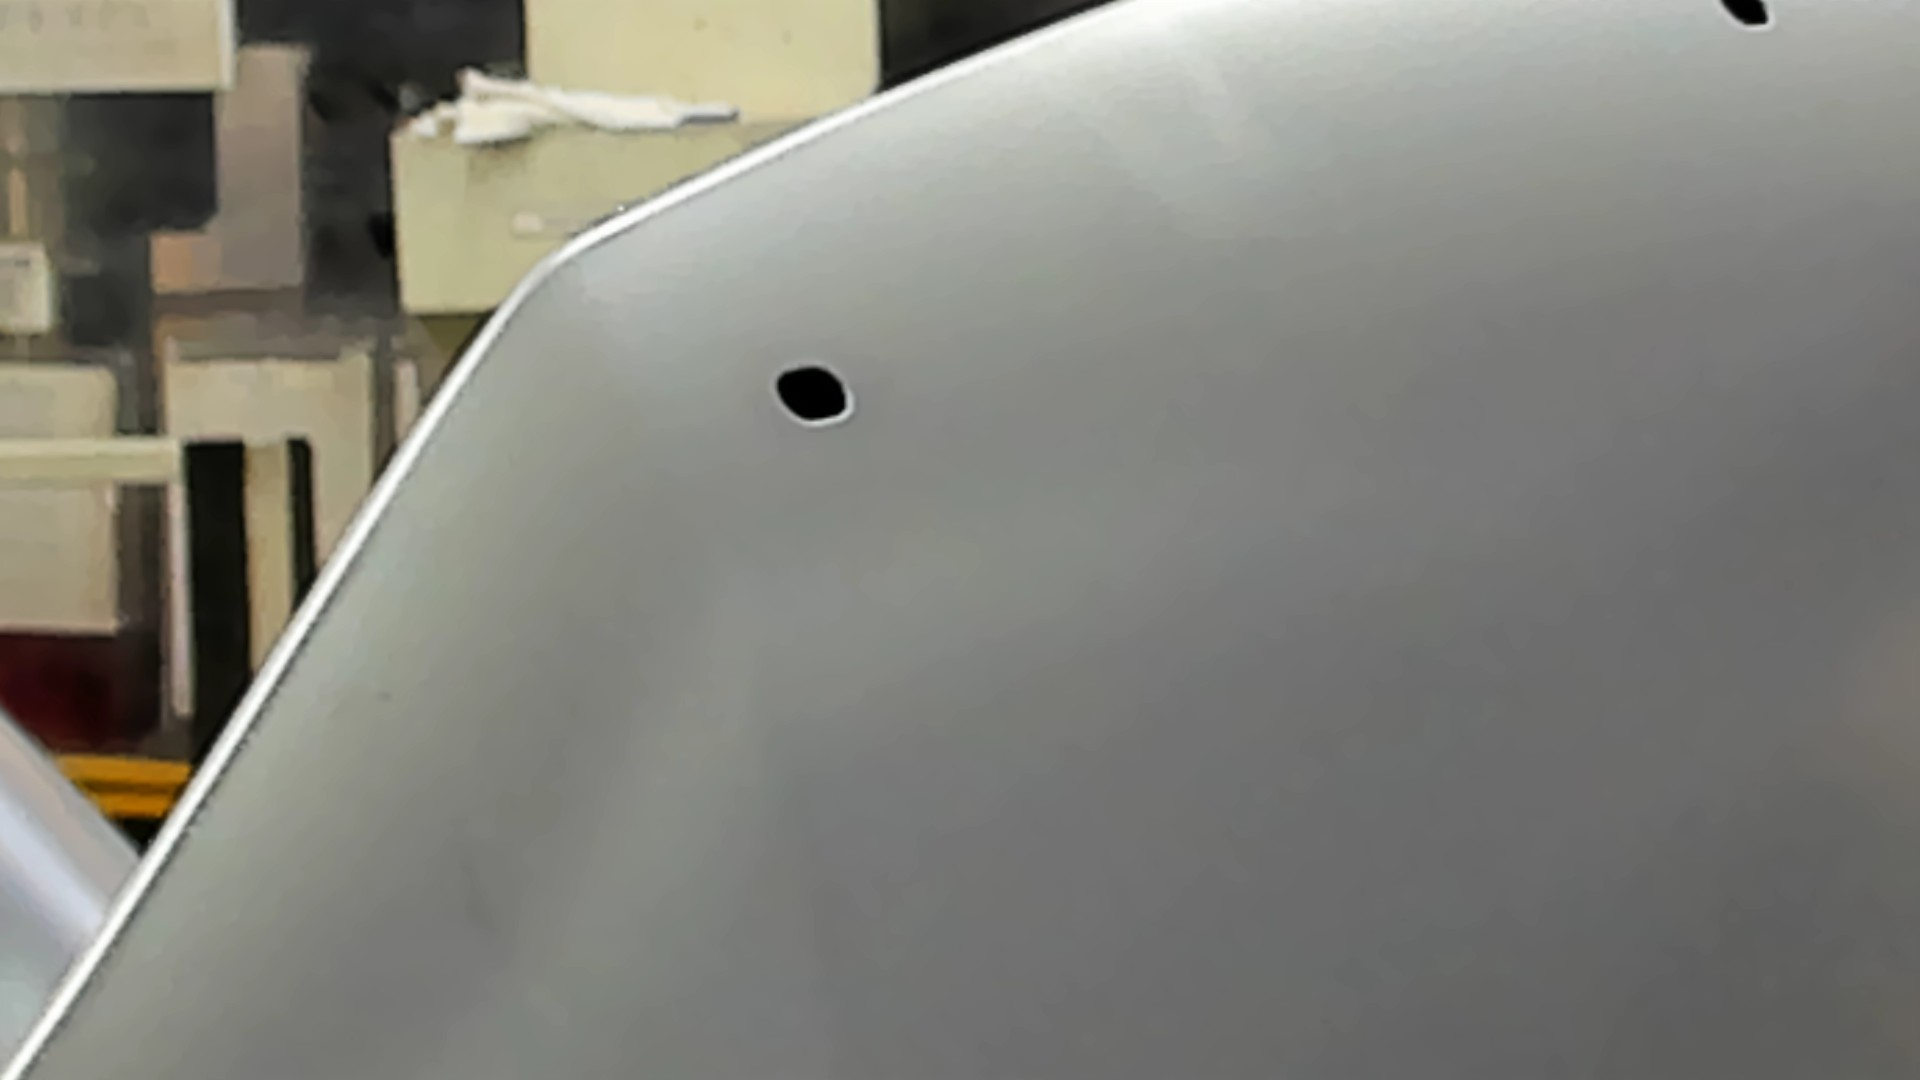amorfo: (771, 357, 857, 429), (1705, 1, 1779, 41)
